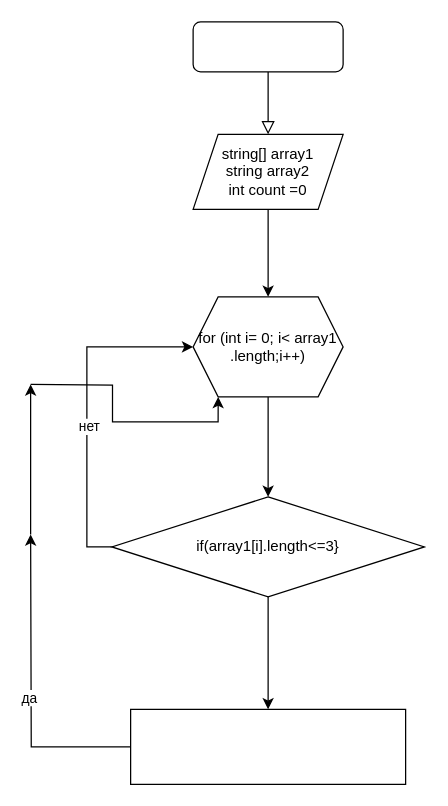
Some shapes in this 448 by 806 pixel diagram are drawn without their labels. The shapes that lost their labels are listed below. From the top down, each one's centre as x and y in pixels, then its label:
the point at 267,46: SecondArrayWithlf
the point at 267,746: array2[count]=array1[i] count++
